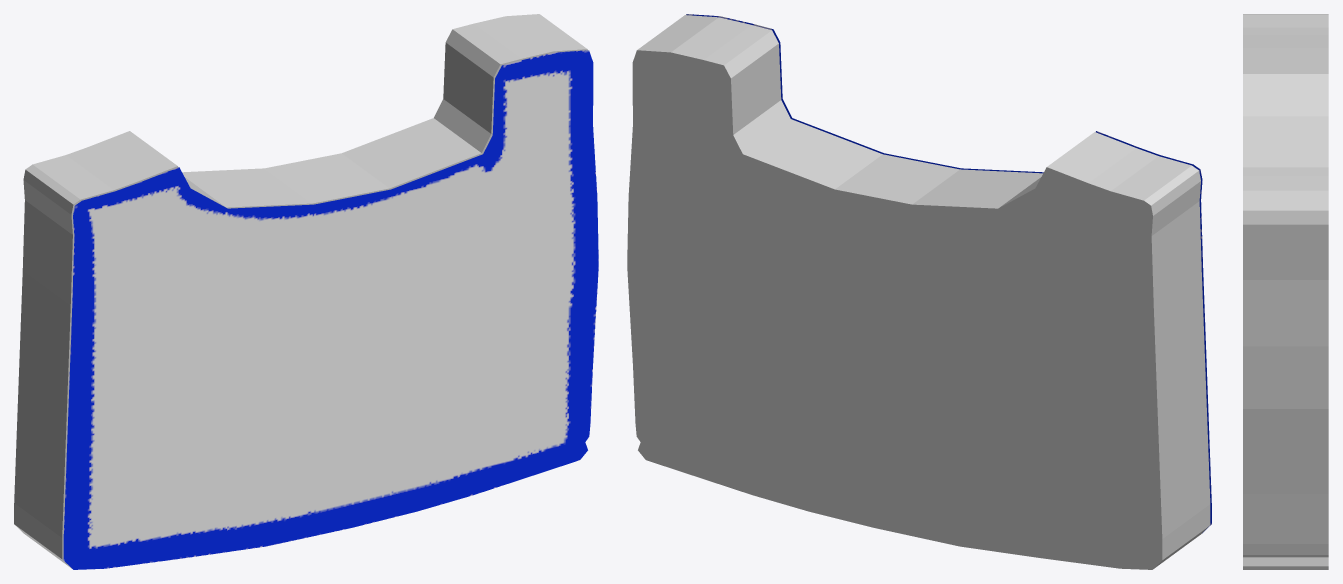
The picture shows the model from 3 angles, left to right: view 1: azimuth 30°, elevation 25°; view 2: azimuth 150°, elevation 25°; view 3: azimuth 270°, elevation 25°; orthographic projection. The views are drawn at different scales.
Parts seen in each view (by area): view 1: In_7_1, In_7_0; view 2: In_7_0, In_7_1; view 3: In_7_0.
Boxes of the visible parts, left/top/right/bottom form: In_7_1: left=63, top=50, right=598, bottom=569; In_7_0: left=14, top=14, right=587, bottom=568; In_7_0: left=627, top=15, right=1210, bottom=569; In_7_1: left=686, top=14, right=1211, bottom=533; In_7_0: left=1243, top=14, right=1328, bottom=569.
Bounding box in the file's own units: 3.22 × 2.45 × 0.515.
Materials: 2 (1 with a texture image).
